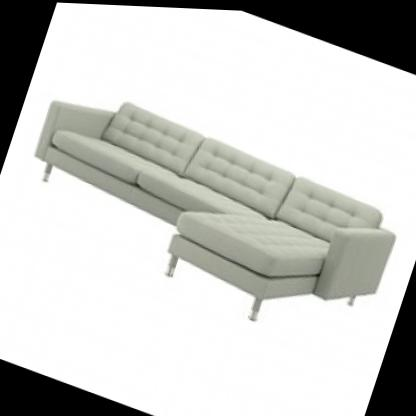Sofa: (0, 45, 416, 371)
